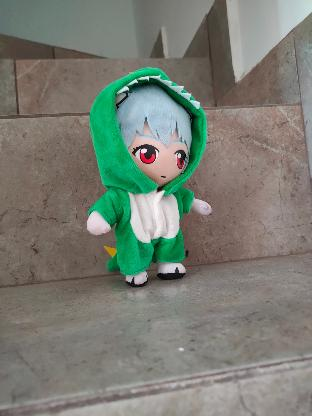rei-plush: (109, 82, 207, 186)
